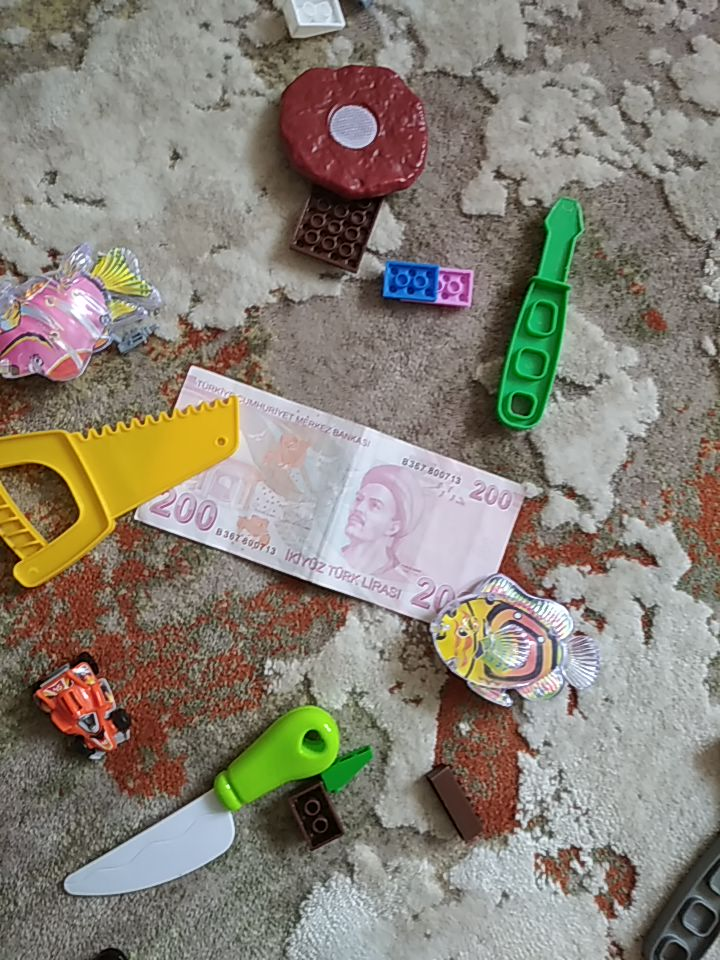200TL: (130, 363, 528, 629)
